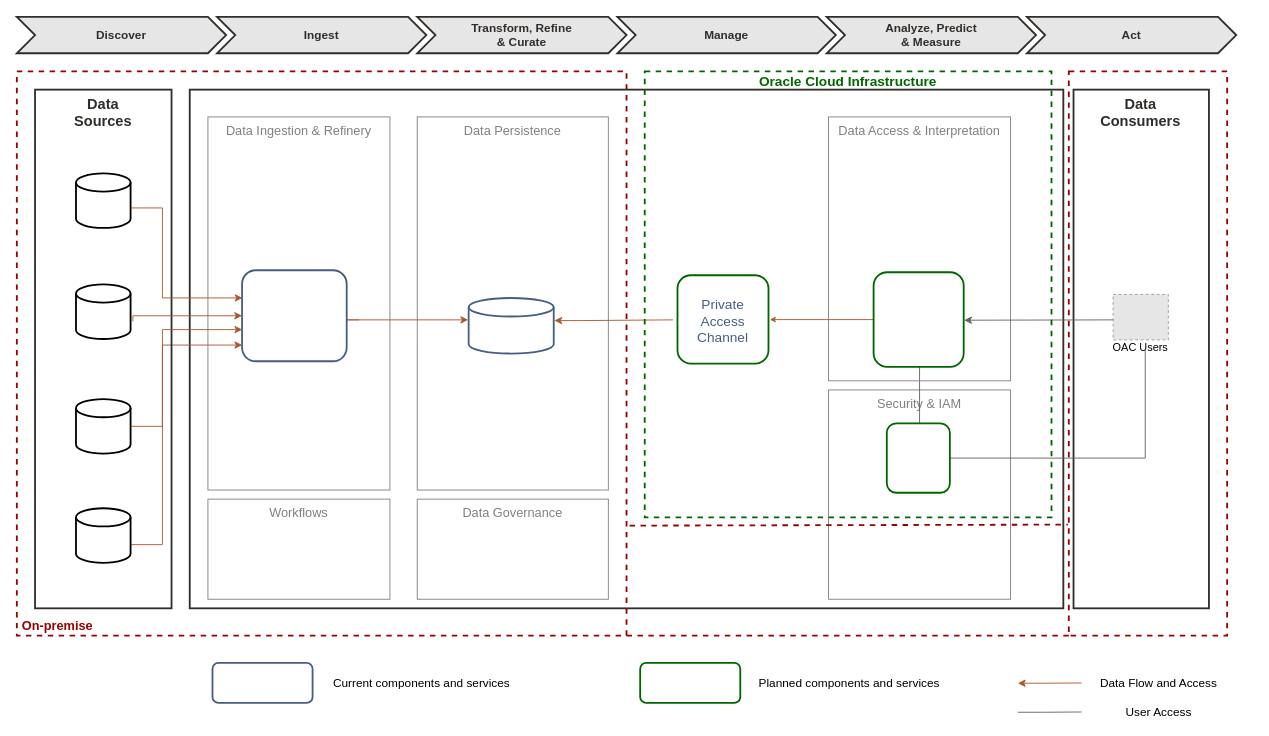
Some shapes in this 1269 by 736 pixel diagram are drawn without their labels. Grey dashed boxes stand in for pictures. The shapes that lost their labels are listed below. From the top down, each one's centre as x and y in pixels, then its label:
At point 294,315: "ETL".
At point 510,325: "Data Warehouse".
At point 918,319: "Oracle Analytics Cloud".
At point 917,457: "IDCS".
